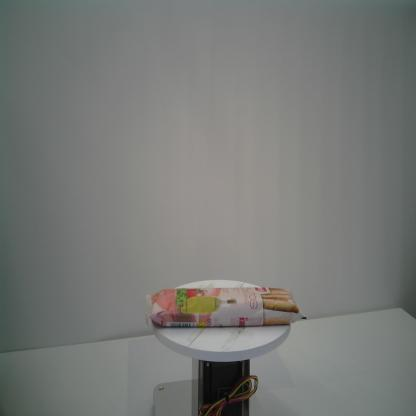Dessert: (139, 280, 308, 328)
